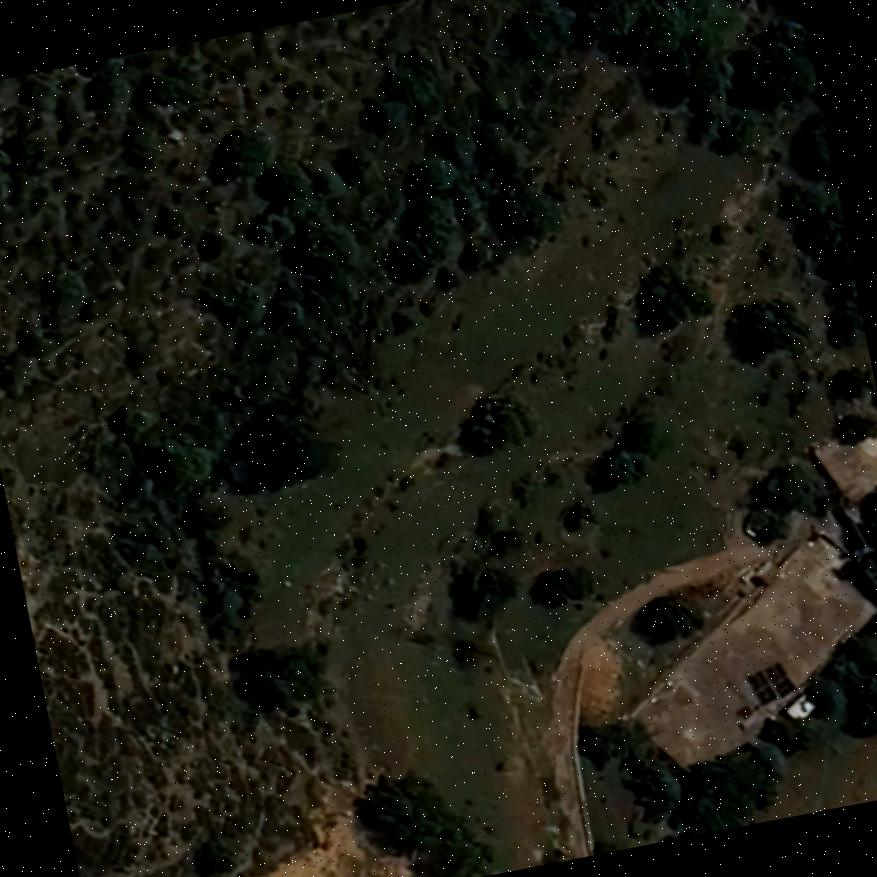Solarpanel: (744, 661, 797, 706)
